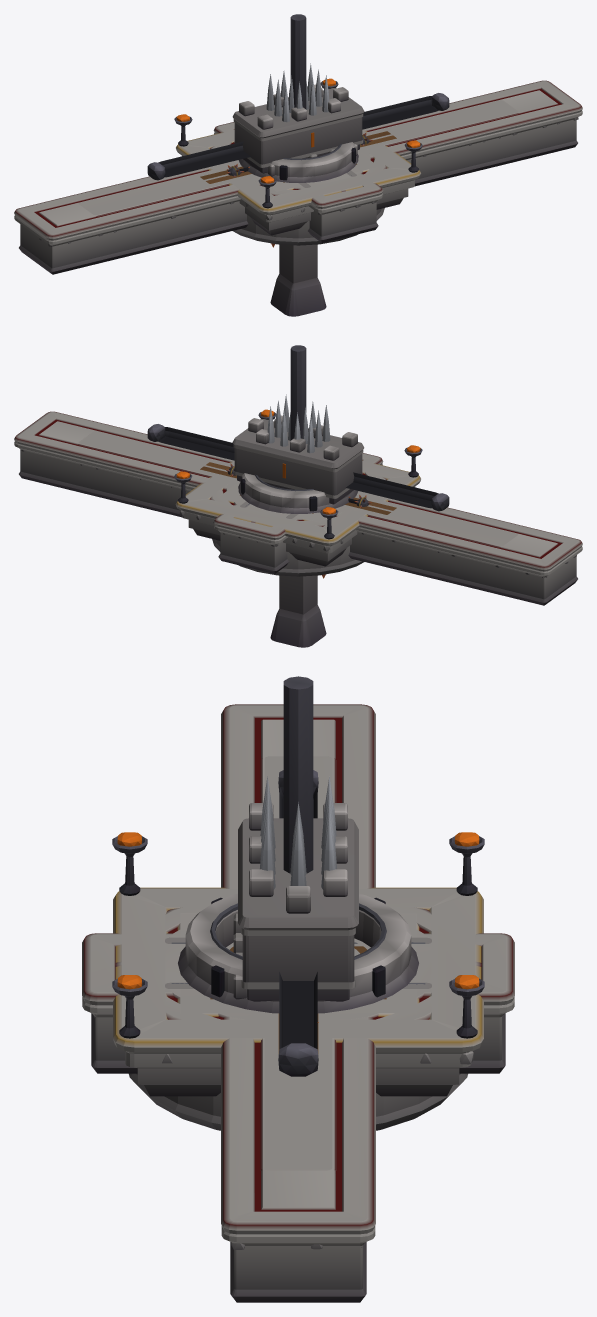
Rendered from fortress-4-C44DI9ym.glb.
The picture shows the model from 3 angles, top to bottom: view 1: azimuth 30°, elevation 25°; view 2: azimuth 150°, elevation 25°; view 3: azimuth 270°, elevation 25°; orthographic projection. The views are drawn at different scales.
Visible parts, largest first — view 1: block_40x2x5#0, pad_12x2x12#0, spout_6x2#0, block_32x2x2.5_grate#0, block_5x2x14#0, mount_10.6#0, support_1_square#0, geyserVent_5.4#0, disc_12x1.5#0, spikes_4x6x3#0, press_5x6x2#0, beam_14x1.5x1.5#0; view 2: block_40x2x5#0, pad_12x2x12#0, spout_6x2#0, block_32x2x2.5_grate#0, block_5x2x14#0, mount_10.6#0, support_1_square#0, geyserVent_5.4#0, disc_12x1.5#0, spikes_4x6x3#0, press_5x6x2#0, beam_14x1.5x1.5#0; view 3: block_40x2x5#0, pad_12x2x12#0, spout_6x2#0, block_32x2x2.5_grate#0, geyserVent_5.4#0, block_5x2x14#0, disc_12x1.5#0, press_5x6x2#0, mount_10.6#0, spikes_4x6x3#0.
Boxes of the visible parts, x1,y1,x2,y2 form: block_40x2x5#0: (14,80,582,274); pad_12x2x12#0: (174,78,422,235); spout_6x2#0: (232,84,364,176); block_32x2x2.5_grate#0: (79,100,518,216); block_5x2x14#0: (213,122,383,242); mount_10.6#0: (147,93,449,180); support_1_square#0: (270,244,326,316); geyserVent_5.4#0: (238,142,358,182); disc_12x1.5#0: (210,141,386,245); spikes_4x6x3#0: (266,63,329,122); press_5x6x2#0: (271,14,306,247); beam_14x1.5x1.5#0: (200,131,396,183); block_40x2x5#0: (14,411,582,605); pad_12x2x12#0: (174,409,422,566); spout_6x2#0: (232,415,364,504); block_32x2x2.5_grate#0: (78,431,517,547); block_5x2x14#0: (213,453,383,573); mount_10.6#0: (147,424,449,511); support_1_square#0: (270,575,326,647); geyserVent_5.4#0: (238,473,358,513); disc_12x1.5#0: (210,472,386,576); spikes_4x6x3#0: (267,394,330,453); press_5x6x2#0: (290,345,325,578); beam_14x1.5x1.5#0: (200,462,396,514); block_40x2x5#0: (221,704,375,1302); pad_12x2x12#0: (112,832,484,1096); spout_6x2#0: (233,803,358,1001); block_32x2x2.5_grate#0: (260,756,336,1170); geyserVent_5.4#0: (178,893,418,1013); block_5x2x14#0: (82,933,514,1073); disc_12x1.5#0: (115,907,481,1130); press_5x6x2#0: (283,676,313,873); mount_10.6#0: (278,770,318,1076); spikes_4x6x3#0: (260,776,336,889).
Bounding box in the file's own units: 40 × 20.5 × 14.
